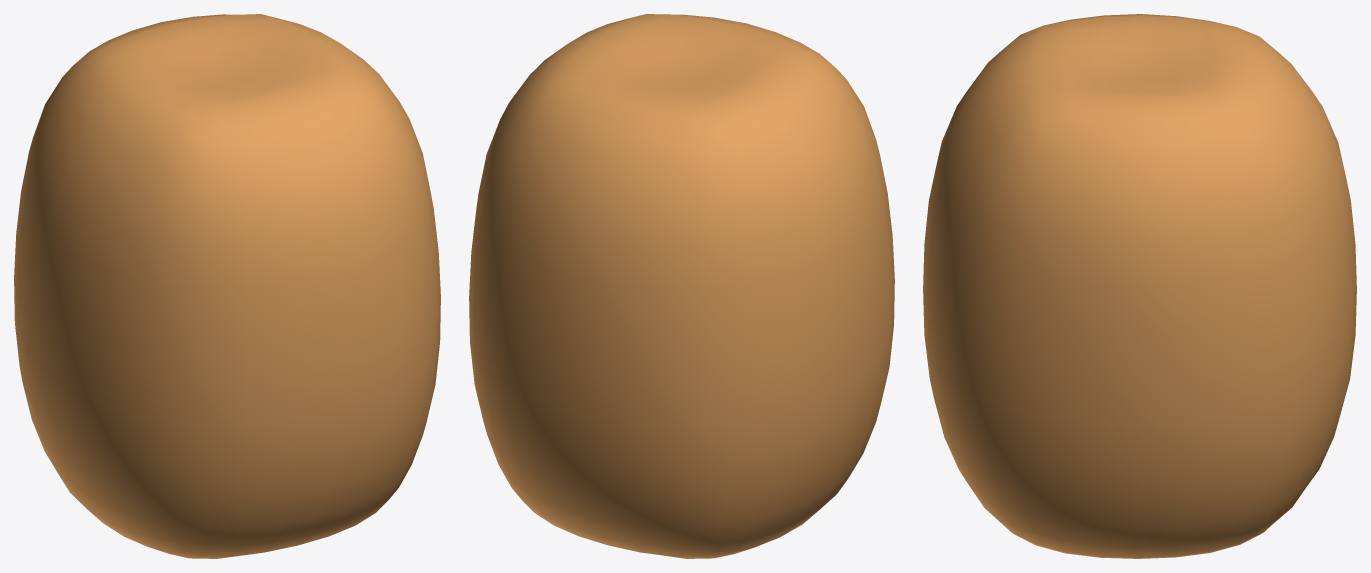
Rendered from Bush_F_03.fbx.
3 views of the same model, side by side, from view 1: azimuth 30°, elevation 25°; view 2: azimuth 150°, elevation 25°; view 3: azimuth 270°, elevation 25° (orthographic).
Parts seen in each view (by area): view 1: Bush_F_03_LOD0; view 2: Bush_F_03_LOD0; view 3: Bush_F_03_LOD0.
Boxes of the visible parts, x1,y1,x2,y2 form: Bush_F_03_LOD0: (14, 14, 440, 558); Bush_F_03_LOD0: (469, 14, 894, 558); Bush_F_03_LOD0: (923, 14, 1356, 558).
Size of what is drawn, in the model's own units: 469 by 565 by 486.
